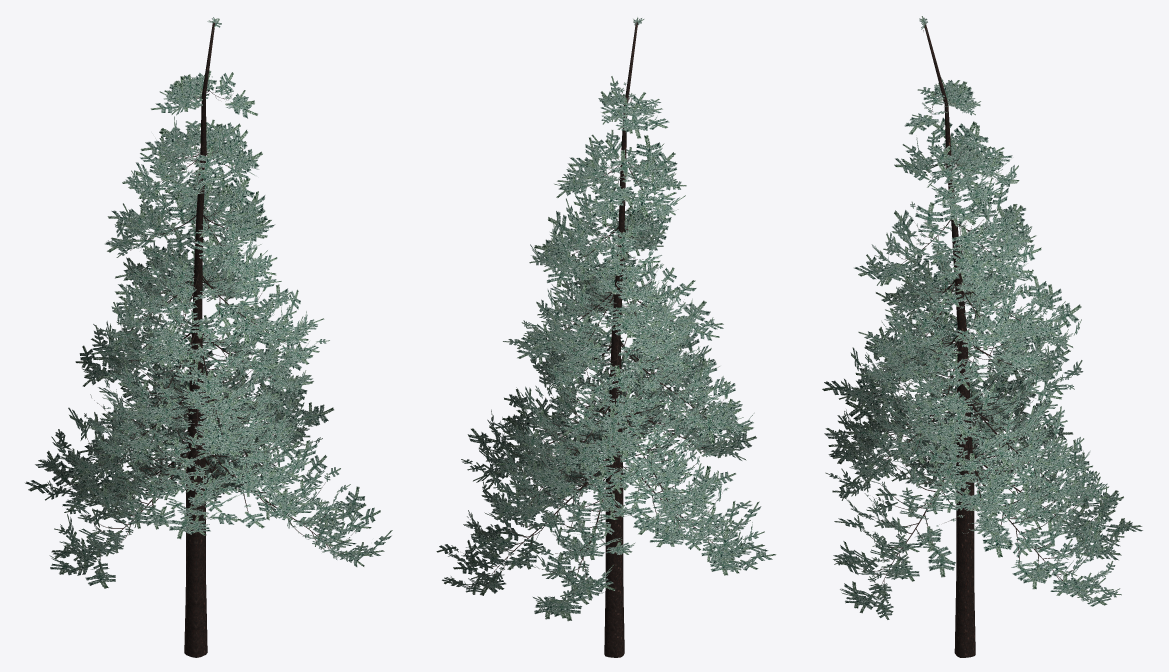
Rendered from Pine.fbx.
3 renders of one model, left to right at view 1: azimuth 30°, elevation 25°; view 2: azimuth 150°, elevation 25°; view 3: azimuth 270°, elevation 25°, orthographic. The views are drawn at different scales.
Parts seen in each view (by area): view 1: leaves, tree.001, tree; view 2: leaves, tree, tree.001; view 3: leaves, tree.001, tree.
Part boxes in pixels (x1,y1,x2,y2): leaves: [25, 17, 392, 588]; tree.001: [184, 22, 215, 657]; tree: [47, 29, 366, 569]; leaves: [436, 17, 776, 621]; tree: [455, 94, 750, 600]; tree.001: [604, 22, 637, 657]; leaves: [822, 16, 1142, 619]; tree.001: [924, 23, 975, 657]; tree: [845, 30, 1109, 606].
Bounding box in the file's own units: 2768 × 5454 × 2657.
